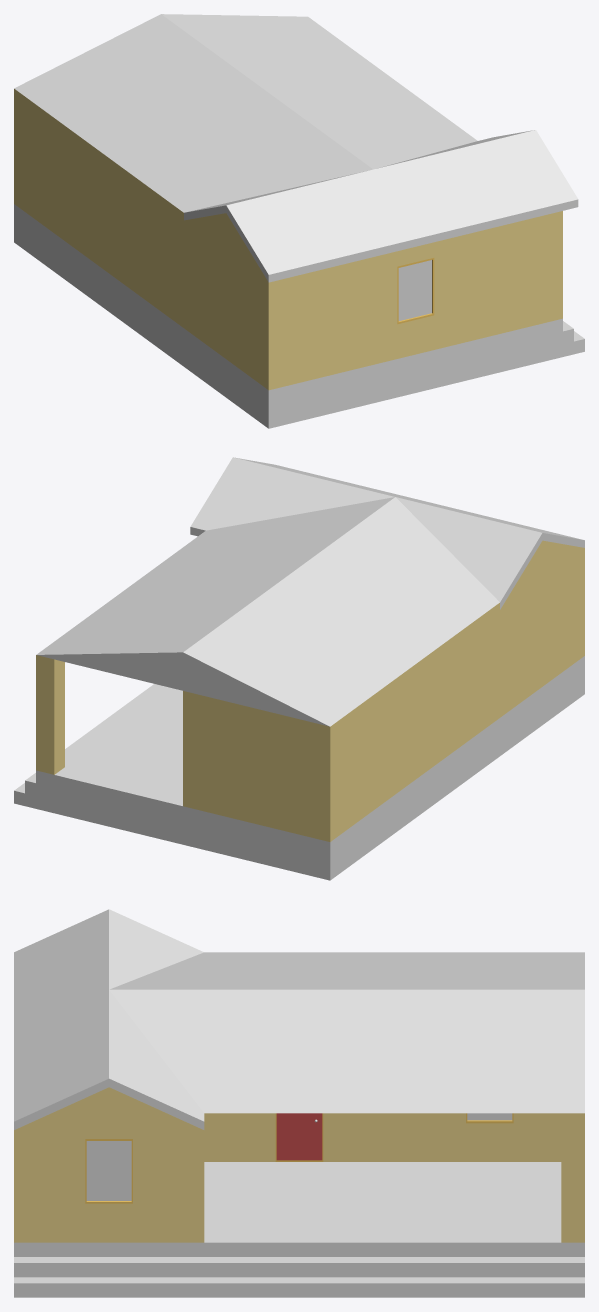
The model's file is Aunt_House.fbx.
3 views of the same model, one above another, from view 1: azimuth 30°, elevation 25°; view 2: azimuth 150°, elevation 25°; view 3: azimuth 270°, elevation 25° (orthographic). The views are drawn at different scales.
Parts seen in each view (by area): view 1: Windows.002; view 2: Windows.002; view 3: Windows.002.
Part boxes in pixels (x1,y1,x2,y2): Windows.002: (14, 14, 584, 428); Windows.002: (14, 457, 584, 880); Windows.002: (14, 909, 584, 1297).
Size of the model in its own units: 860 by 500 by 1200.
